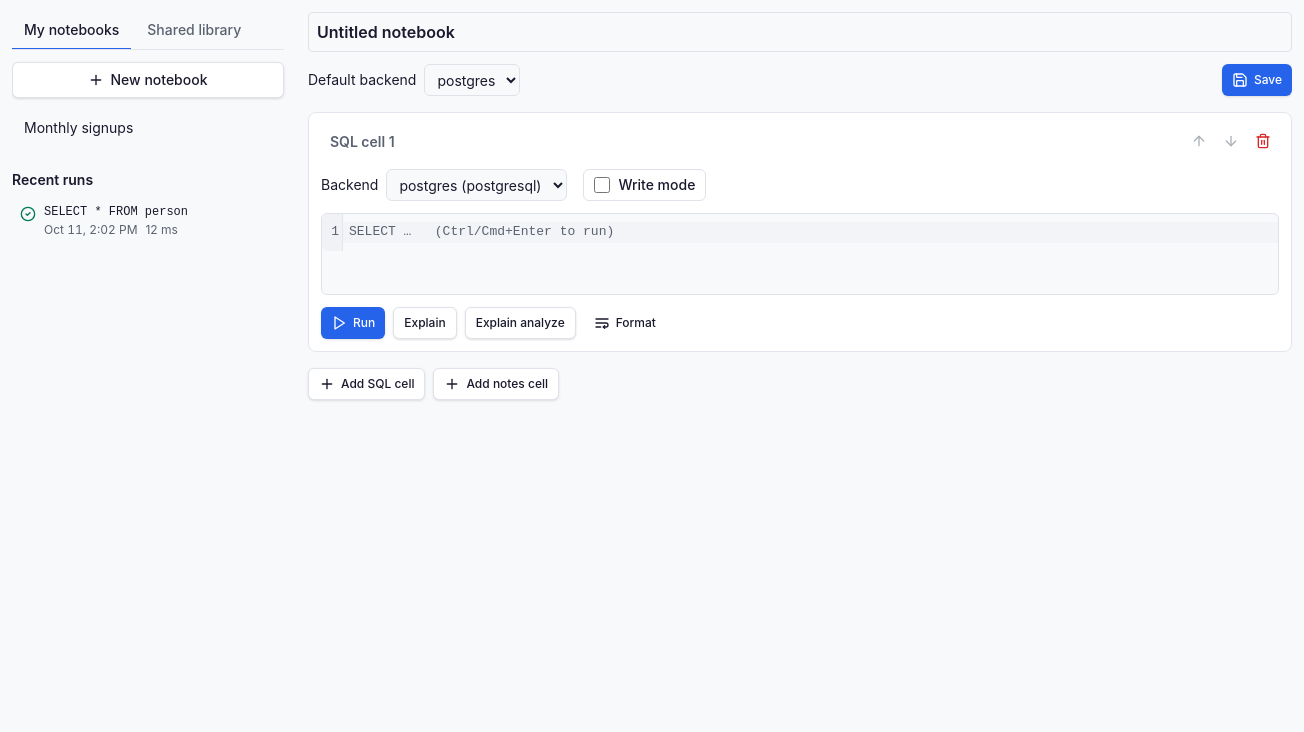
Test: SqlWorkbenchWidget › lists notebooks and opens one into the URL
The image size is (1304, 732).
Click the button "Monthly signups".
click(79, 128)  # box [12,110,284,146]
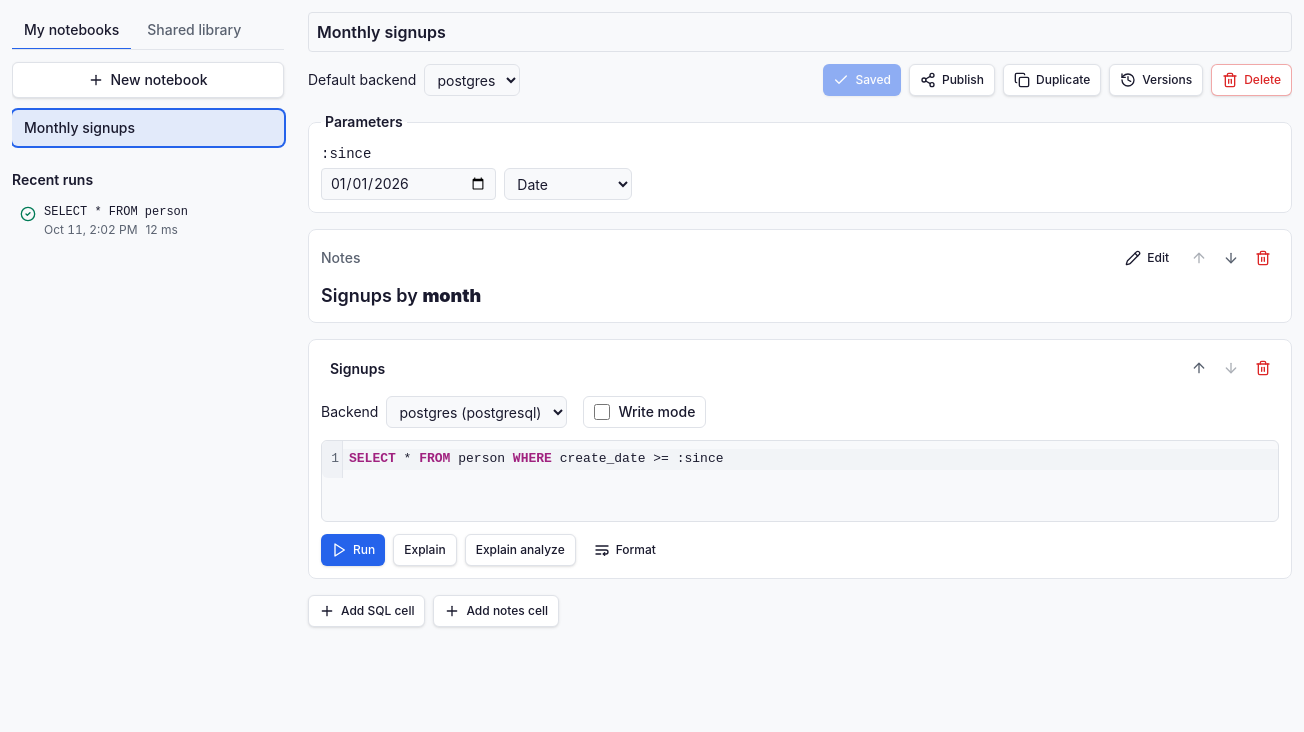
Expected: the field showing "Monthly signups" is shown, [308,12,1292,52]
Expected: the text "month" is shown, [422,285,481,306]
Expected: the text ":since" is shown, [321,146,371,162]
Click the tab "Shared library".
click(194, 31)  # box [135,12,253,50]
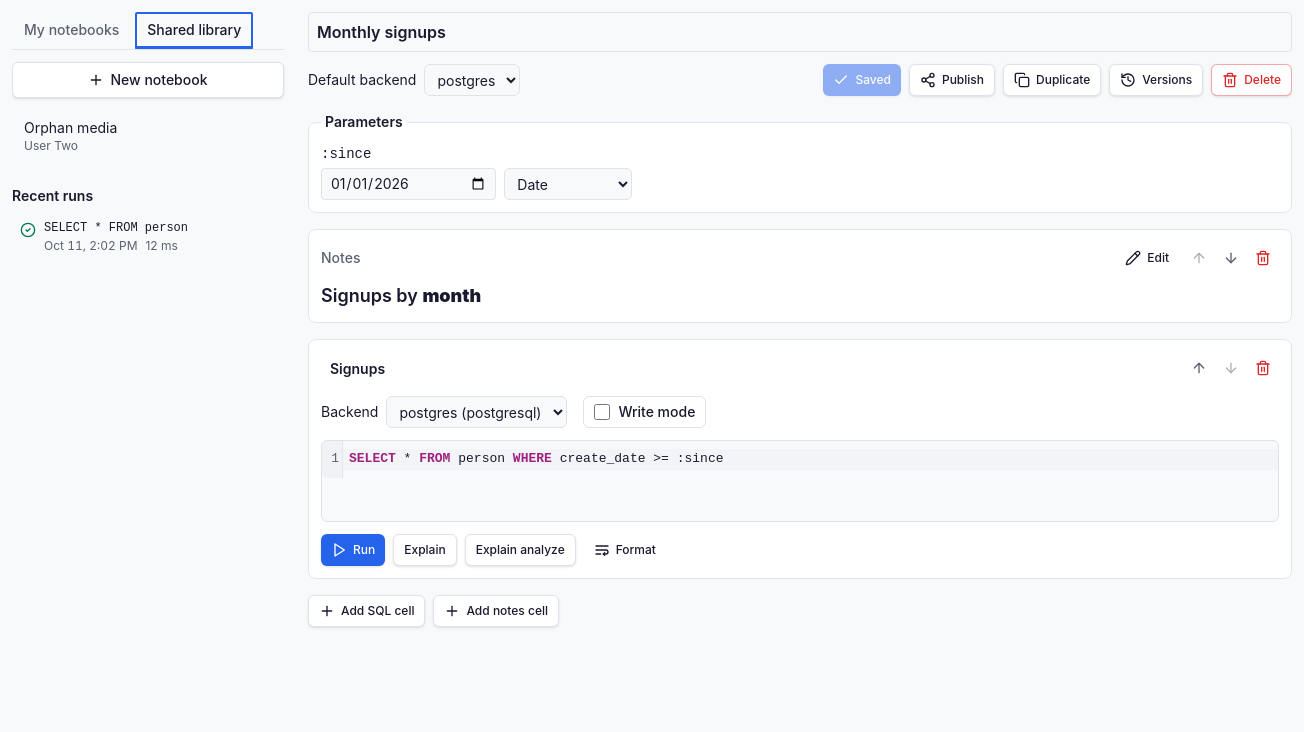
Expected: the button "Orphan media User Two" is shown, [12,110,284,162]
